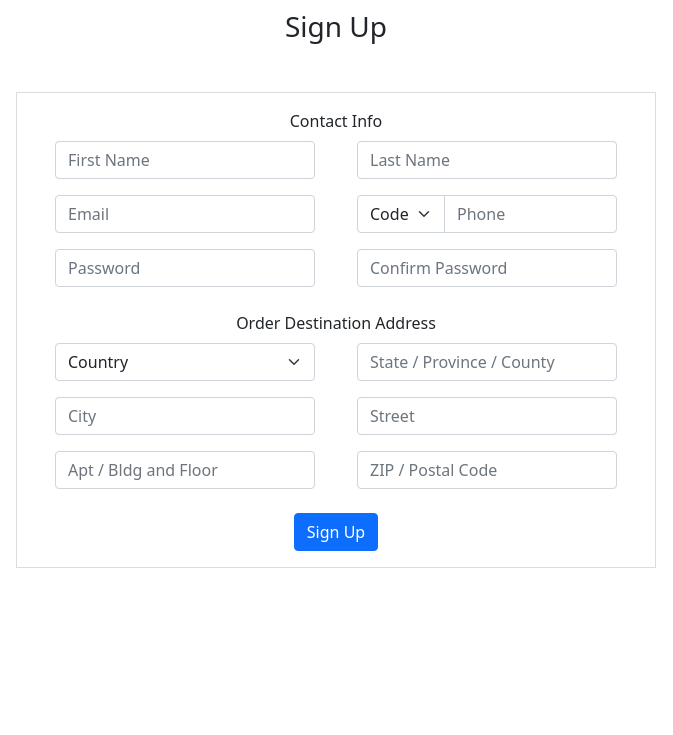
Testing SignUp component › Testing the component when the inputs are all empty
The width and height of the screenshot is (673, 735).
// clicking the sign up button
Click the button "Sign Up".
click(336, 532)  # box x1=294 y1=513 x2=378 y2=551
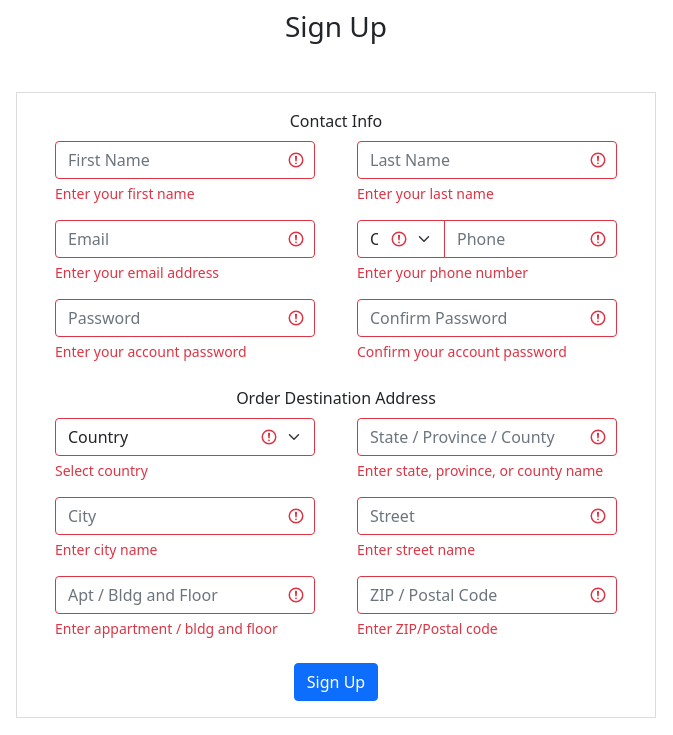
Now the text "Enter your first name" is shown, box x1=55 y1=184 x2=195 y2=203
Now the text "Enter your last name" is shown, box x1=357 y1=184 x2=494 y2=203
Now the text "Enter your email address" is shown, box x1=55 y1=263 x2=219 y2=282
